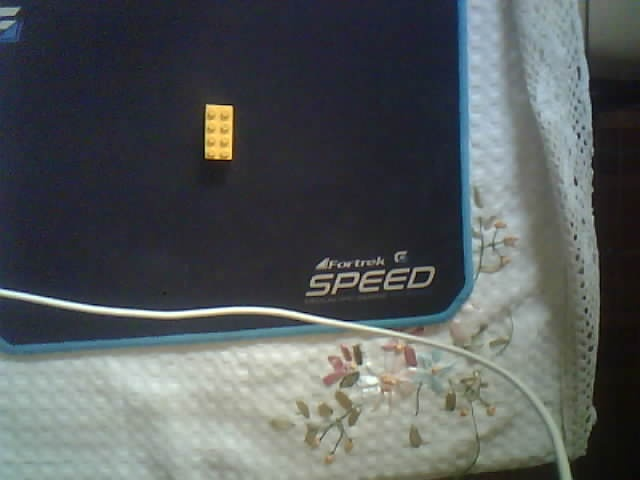lego: (203, 102, 233, 163)
